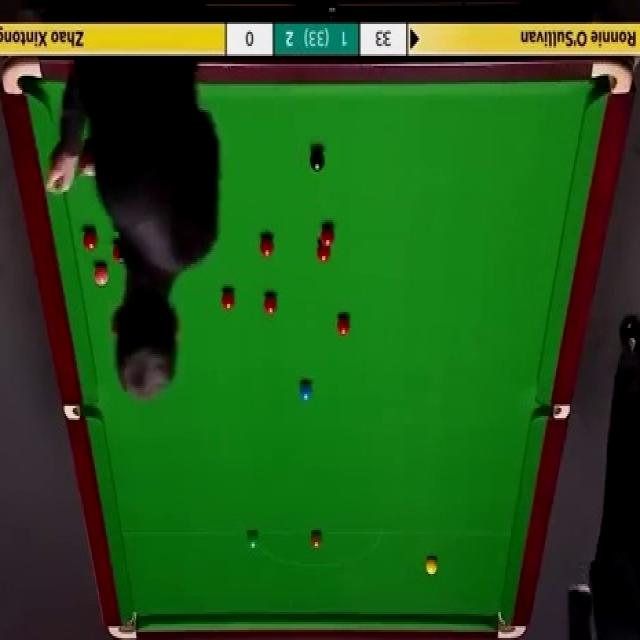pocket: (591, 58, 636, 94), (2, 60, 44, 97), (108, 610, 140, 638), (496, 610, 526, 638), (65, 405, 99, 420), (535, 406, 571, 420)
